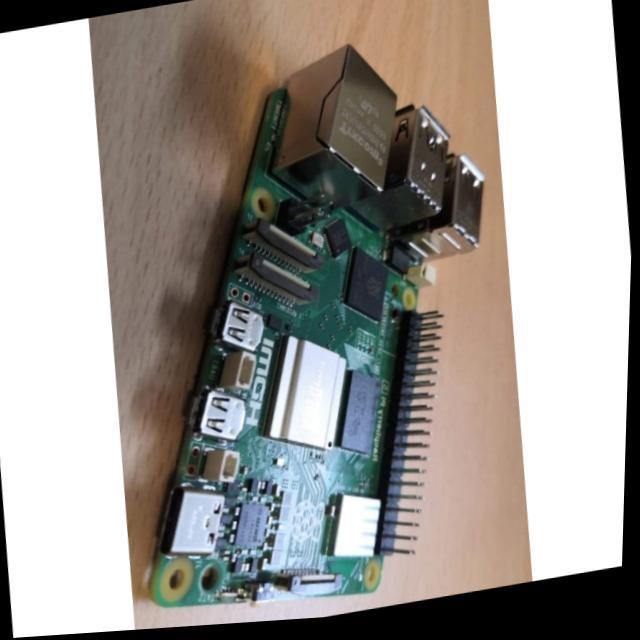Raspberry-Pi-5: (153, 46, 484, 606)
